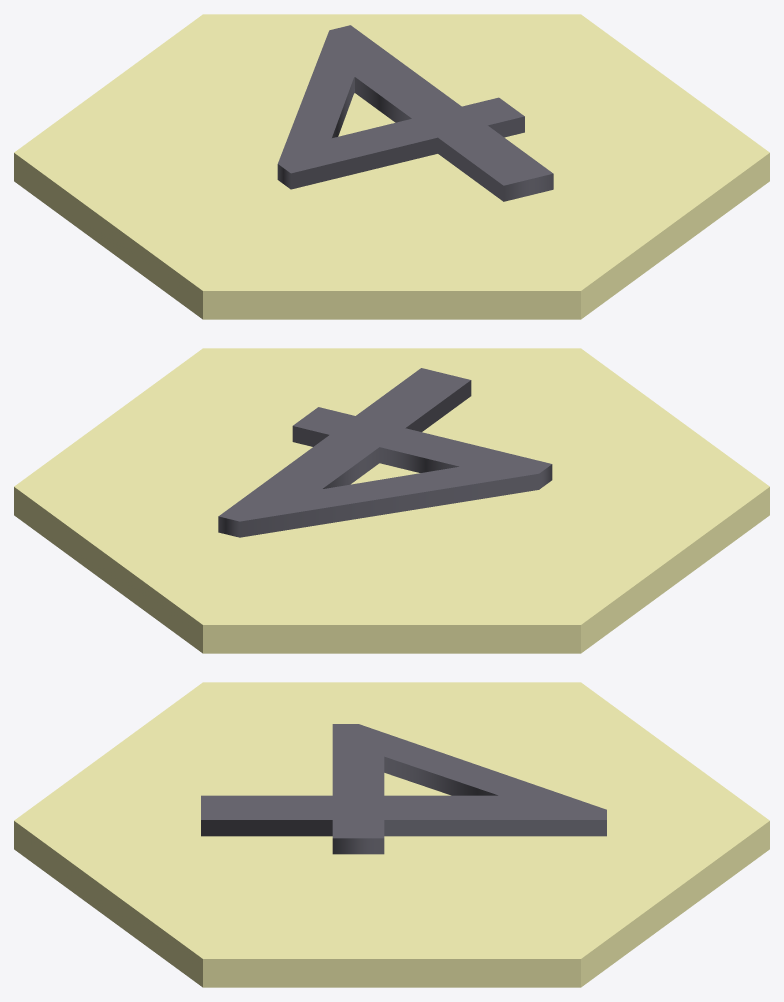
The model's file is station_4.dae.
3 renders of one model, top to bottom at view 1: azimuth 30°, elevation 25°; view 2: azimuth 150°, elevation 25°; view 3: azimuth 270°, elevation 25°, orthographic.
Parts seen in each view (by area): view 1: Text_009; view 2: Text_009; view 3: Text_009.
Part boxes in pixels (x1=…): Text_009: x1=14, y1=14, x2=769, y2=319; Text_009: x1=14, y1=348, x2=769, y2=653; Text_009: x1=14, y1=682, x2=769, y2=987.
Size of the model in its own units: 0.7359 by 0.8498 by 0.0762.
